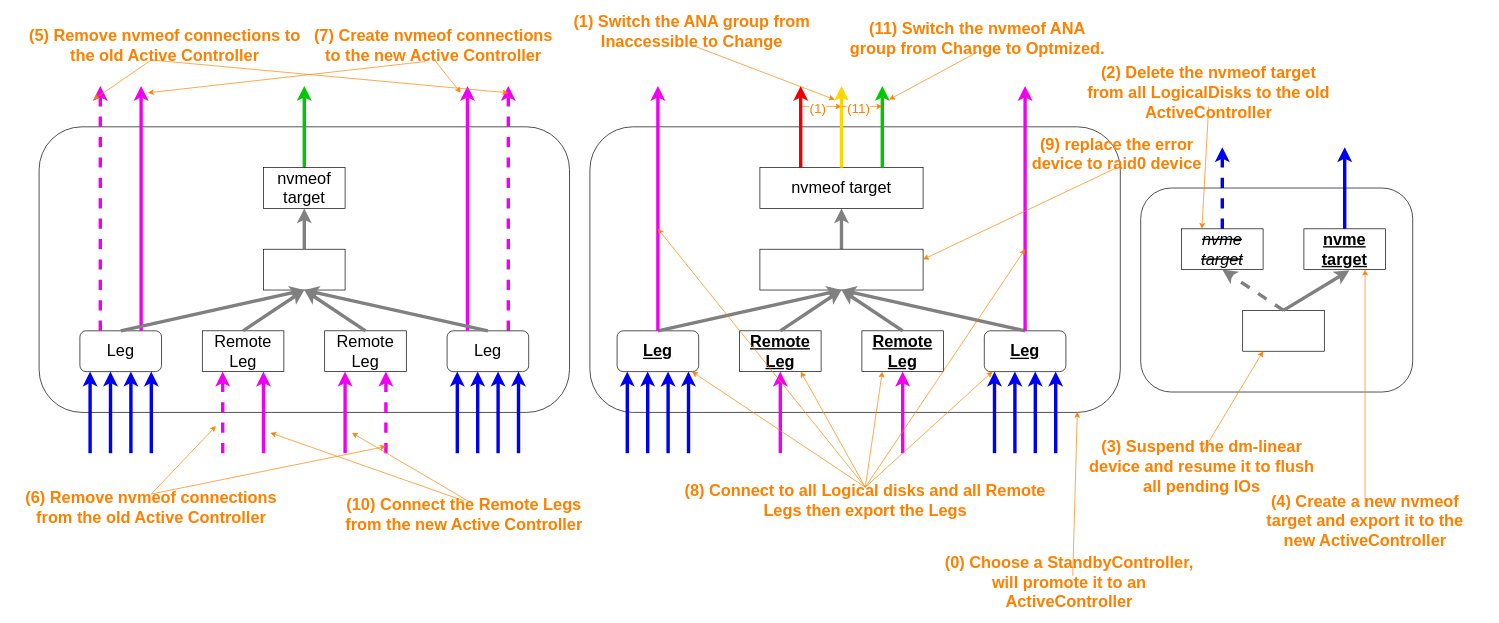
Image size: 1499x623. Some labels were removed from this diagram. Each missing label, with the box of its shape:
All Logical Disks: (1140, 187, 1413, 392)
All Other Active Controller: (38, 126, 570, 412)
error raid0: (759, 249, 923, 290)
linear: (1242, 310, 1324, 351)
raid0: (263, 249, 345, 290)
Standby Active Controller: (589, 126, 1120, 412)
